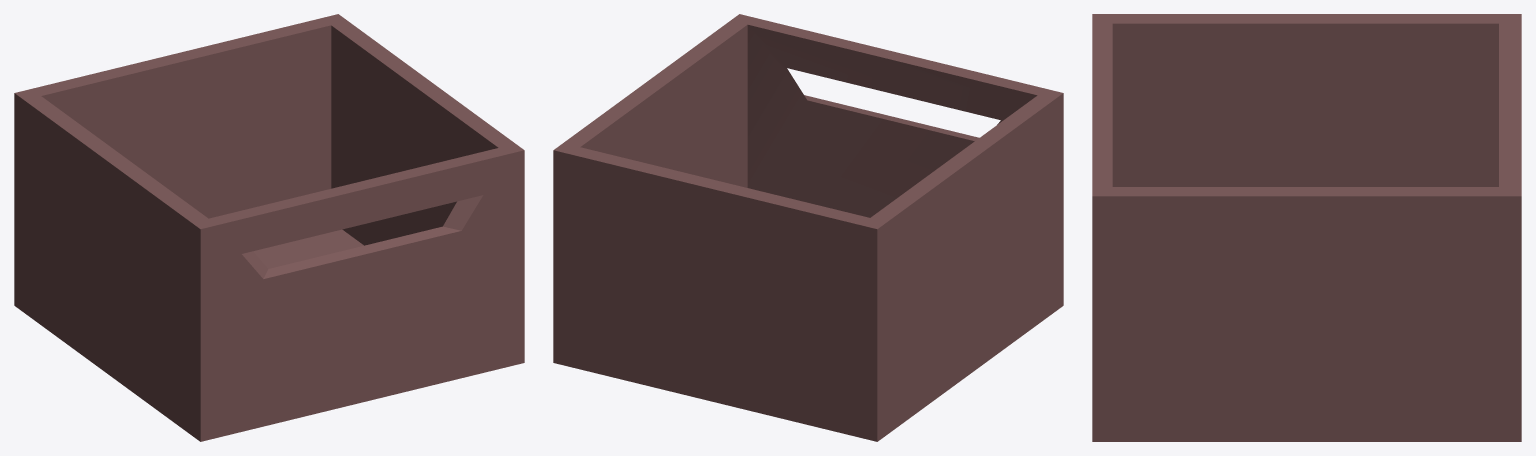
The model's file is Prop_box.fbx.
3 views of the same model, side by side, from view 1: azimuth 30°, elevation 25°; view 2: azimuth 150°, elevation 25°; view 3: azimuth 270°, elevation 25° (orthographic). The views are drawn at different scales.
Visible parts, largest first — view 1: Prop_Box; view 2: Prop_Box; view 3: Prop_Box.
Boxes of the visible parts, box(x1,y1,x2,y2) form: Prop_Box: box(14, 14, 524, 441); Prop_Box: box(553, 14, 1063, 441); Prop_Box: box(1092, 14, 1521, 441).
Size of the model in its own units: 50.97 by 31.98 by 50.71.
